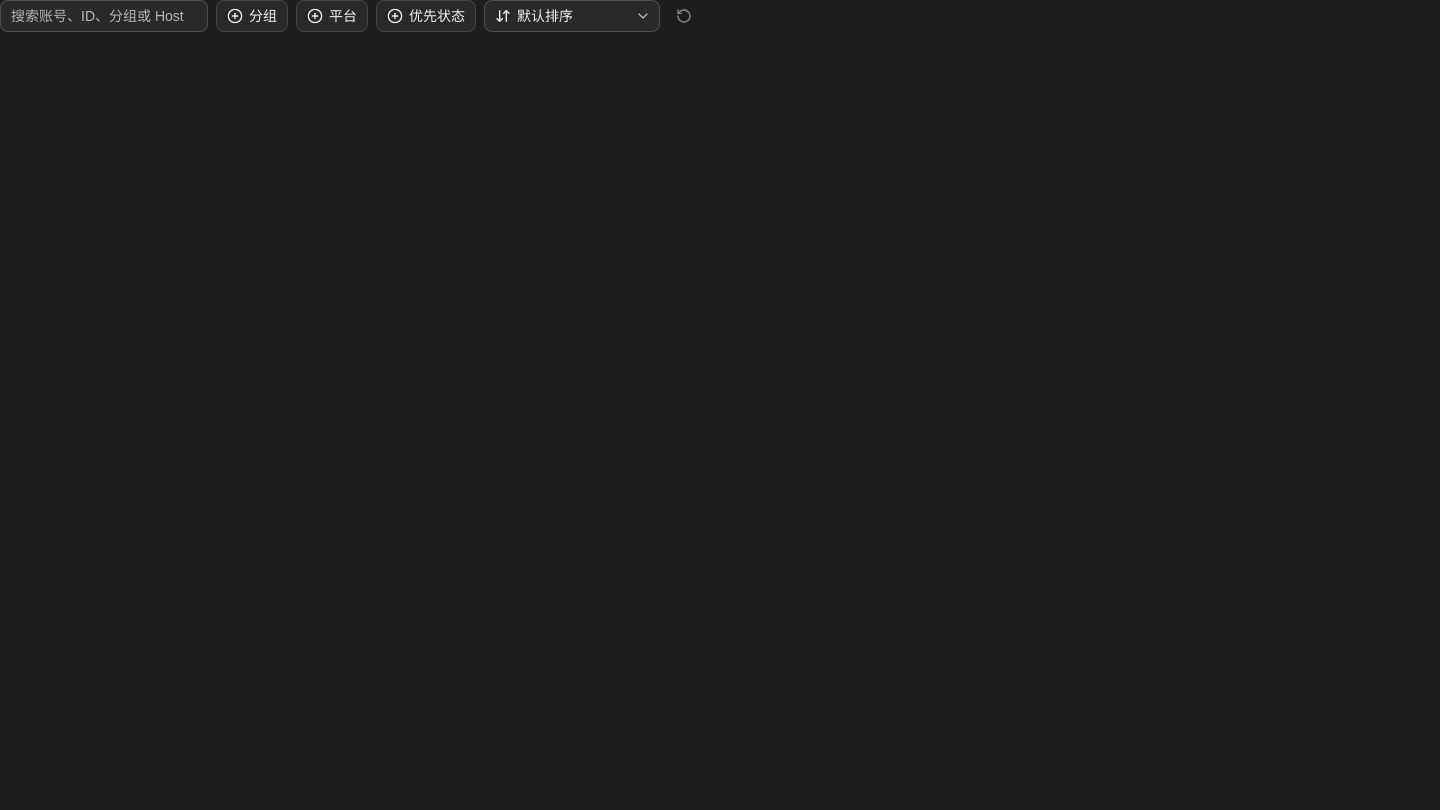
Test case: 平台字典调整顺序后动画筛选使用后台顺序且不补入未登记平台
What coordinates should you click on to do the following:
click the button with aria-label "平台筛选"
I would click on:
 (332, 16)
Its box is [296,0,368,32].
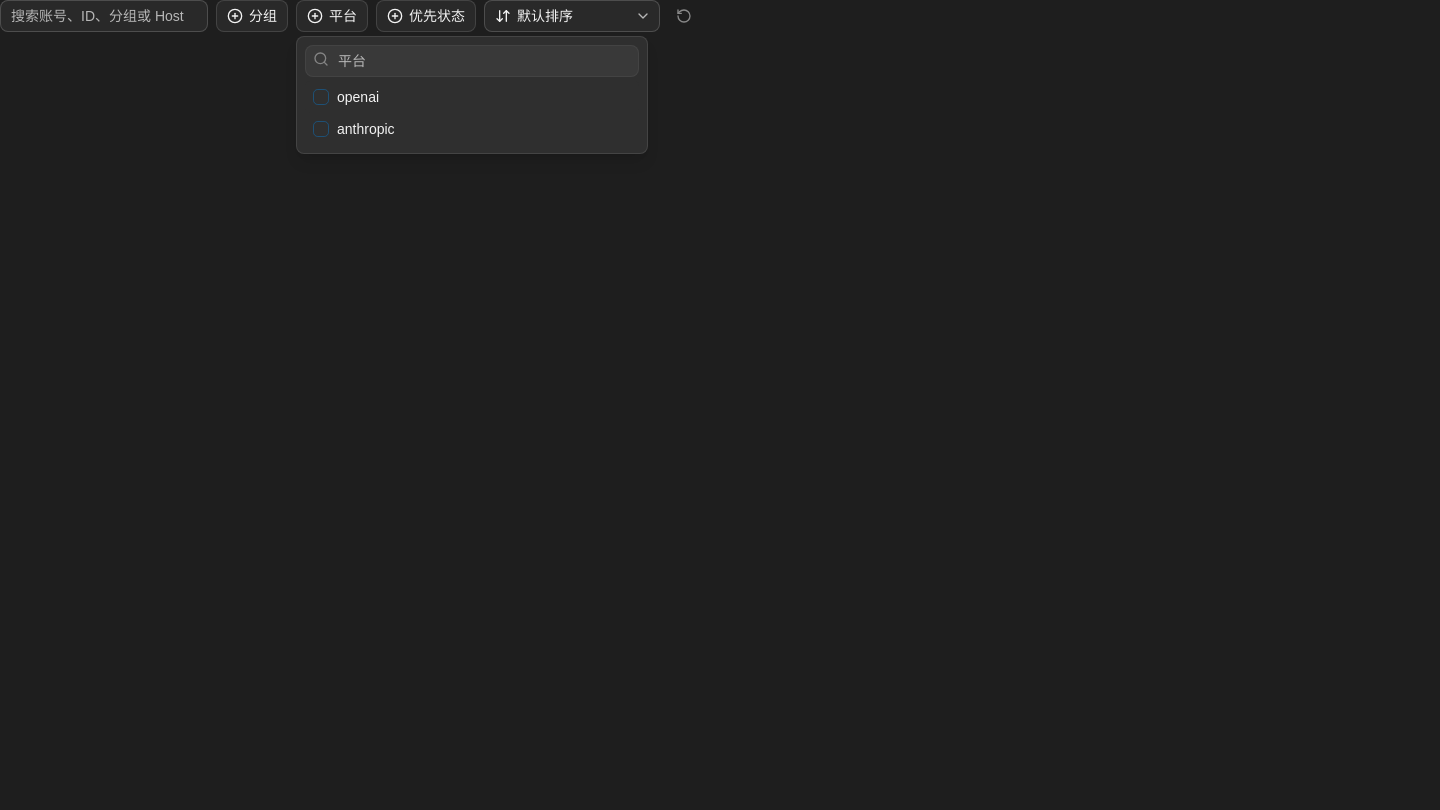
Expected: the options read "openai", "anthropic", in this order, [305,81,639,113]; [305,113,639,145]
